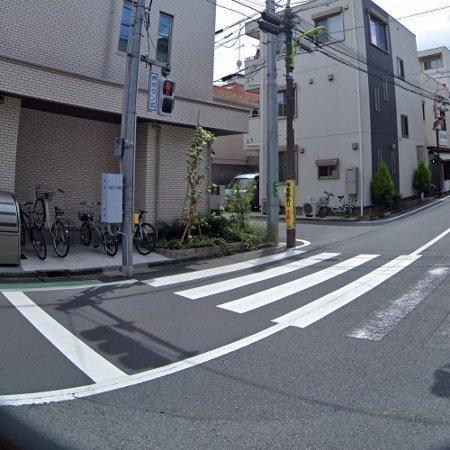crosswalks: (137, 248, 450, 351)
